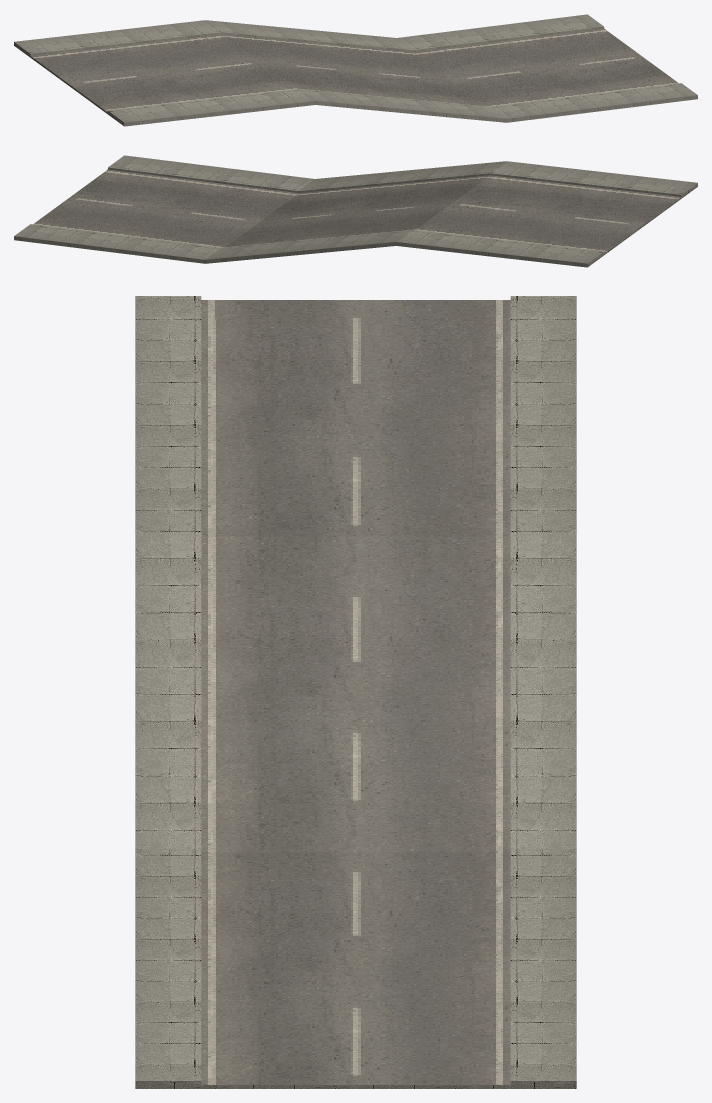
Rendered from road_4_slope.glb.
The picture shows the model from 3 angles, top to bottom: view 1: azimuth 30°, elevation 25°; view 2: azimuth 150°, elevation 25°; view 3: azimuth 270°, elevation 25°; orthographic projection. The views are drawn at different scales.
Visible parts, largest first — view 1: road_4_slope; view 2: road_4_slope; view 3: road_4_slope.
Part boxes in pixels (x1,y1,x2,y2): road_4_slope: (14, 14, 697, 126); road_4_slope: (14, 155, 697, 267); road_4_slope: (135, 296, 576, 1088).
Size of the model in its own units: 48 by 9.32 by 16.
Materials: 2 (2 with a texture image).
